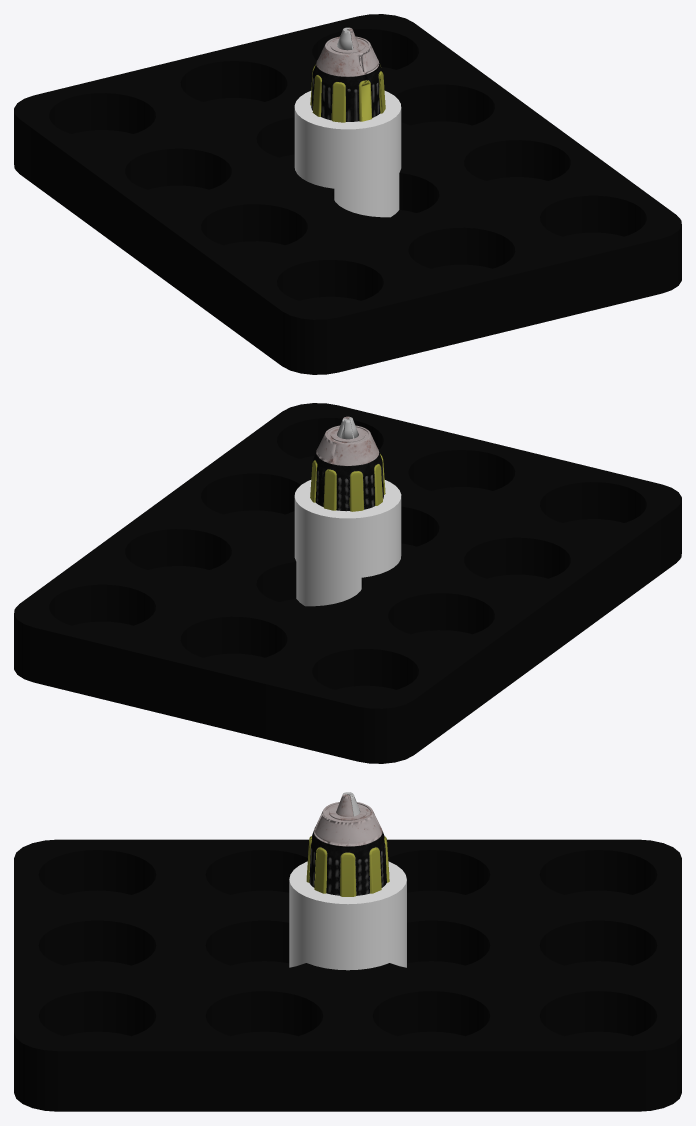
File: Chuck Bin.fbx
3 renders of one model, top to bottom at view 1: azimuth 30°, elevation 25°; view 2: azimuth 150°, elevation 25°; view 3: azimuth 270°, elevation 25°, orthographic. The views are drawn at different scales.
Visible parts, largest first — view 1: Chuck Bin, Cylinder, body_low.003; view 2: Chuck Bin, Cylinder, body_low.003; view 3: Chuck Bin, Cylinder, body_low.003.
Part boxes in pixels (box(x1,y1,x2,y2)): Chuck Bin: box(14, 14, 681, 374); Cylinder: box(294, 91, 401, 217); body_low.003: box(310, 27, 385, 122); Chuck Bin: box(14, 403, 681, 763); Cylinder: box(294, 480, 401, 606); body_low.003: box(310, 416, 385, 511); Chuck Bin: box(14, 839, 681, 1111); Cylinder: box(289, 861, 406, 970); body_low.003: box(306, 792, 389, 896).
Bounding box in the file's own units: 34.41 × 16.03 × 45.88.
